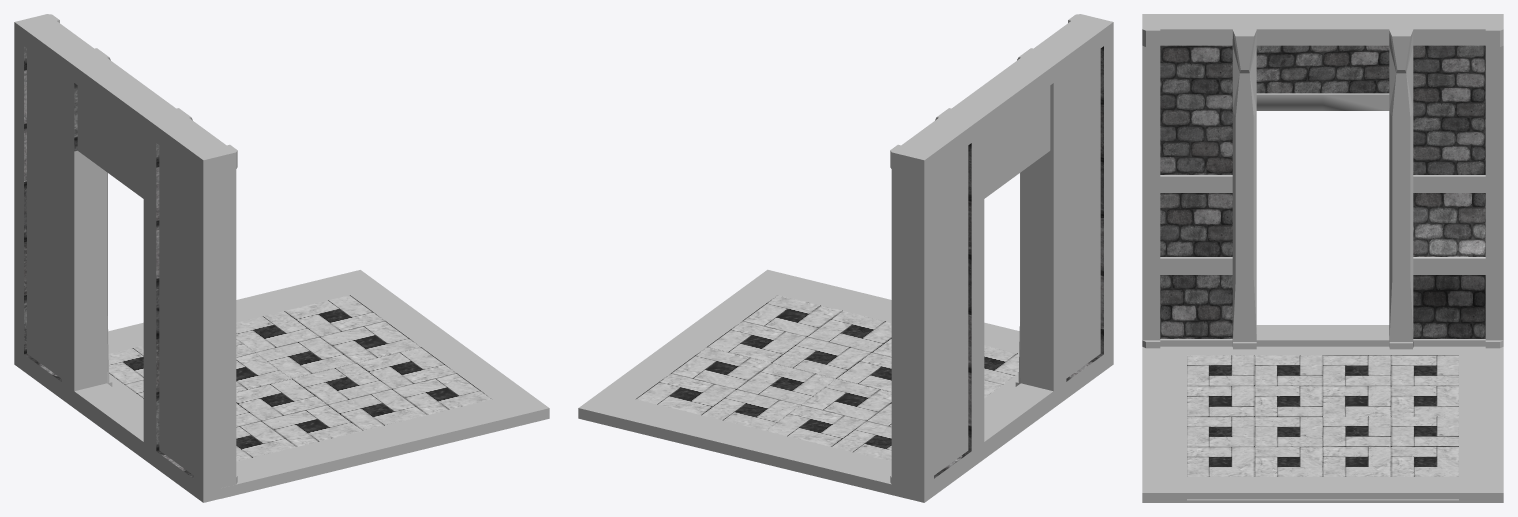
The model's file is Mod2.fbx.
3 renders of one model, left to right at view 1: azimuth 30°, elevation 25°; view 2: azimuth 150°, elevation 25°; view 3: azimuth 270°, elevation 25°, orthographic. The views are drawn at different scales.
Parts seen in each view (by area): view 1: Wall2; view 2: Wall2; view 3: Wall2.
Part boxes in pixels (<box>): Wall2: <box>14,14,549,502</box>; Wall2: <box>578,14,1113,502</box>; Wall2: <box>1142,14,1503,502</box>.
Bounding box in the file's own units: 317 × 300 × 300.
